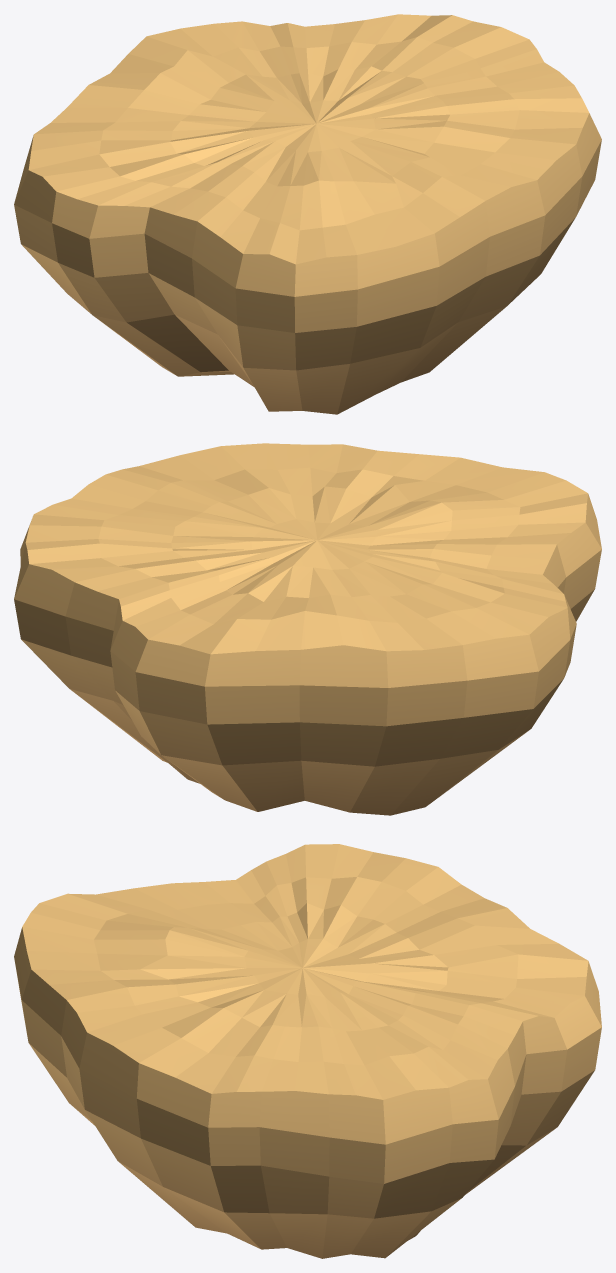
The model's file is Island1.glb.
The picture shows the model from 3 angles, top to bottom: view 1: azimuth 30°, elevation 25°; view 2: azimuth 150°, elevation 25°; view 3: azimuth 270°, elevation 25°; orthographic projection. The views are drawn at different scales.
Parts seen in each view (by area): view 1: Vert.001; view 2: Vert.001; view 3: Vert.001.
Part boxes in pixels (x1,y1,x2,y2): Vert.001: [14, 14, 601, 414]; Vert.001: [14, 443, 601, 815]; Vert.001: [14, 844, 601, 1258].
Bounding box in the file's own units: 8.3 × 3.87 × 7.81.
Materials: 1 (1 with a texture image).
